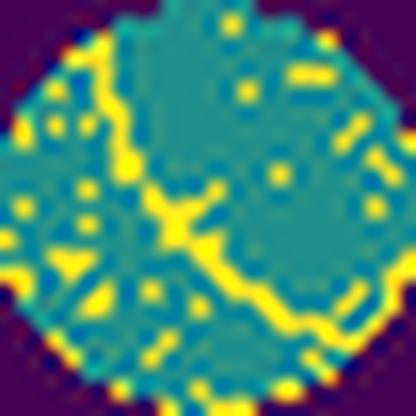Scratch: (61, 31, 416, 355)
